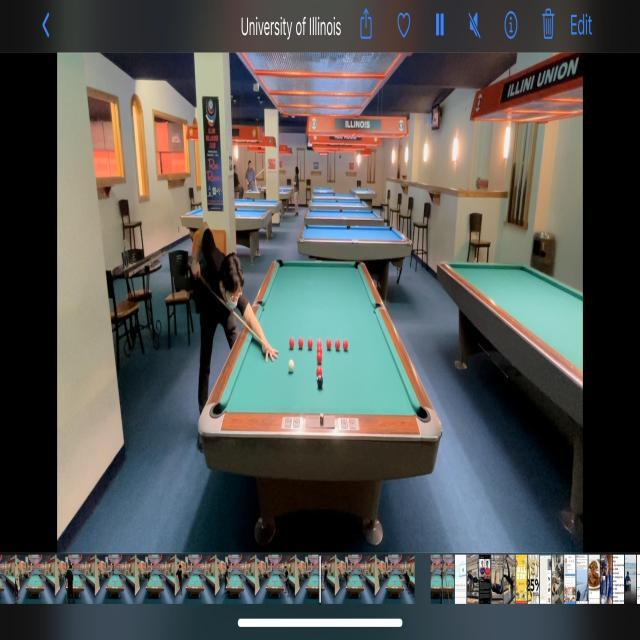Ball: (316, 366, 323, 378), (308, 338, 314, 351), (326, 338, 332, 351), (288, 360, 294, 372), (317, 376, 323, 388), (298, 338, 304, 350), (316, 352, 322, 364), (316, 338, 322, 349), (335, 338, 340, 351), (343, 338, 348, 351), (289, 337, 294, 349), (316, 347, 322, 357)
Pocket: (410, 401, 430, 424), (209, 402, 229, 418), (372, 301, 384, 314), (256, 298, 266, 311), (351, 262, 362, 270), (276, 260, 286, 268)
